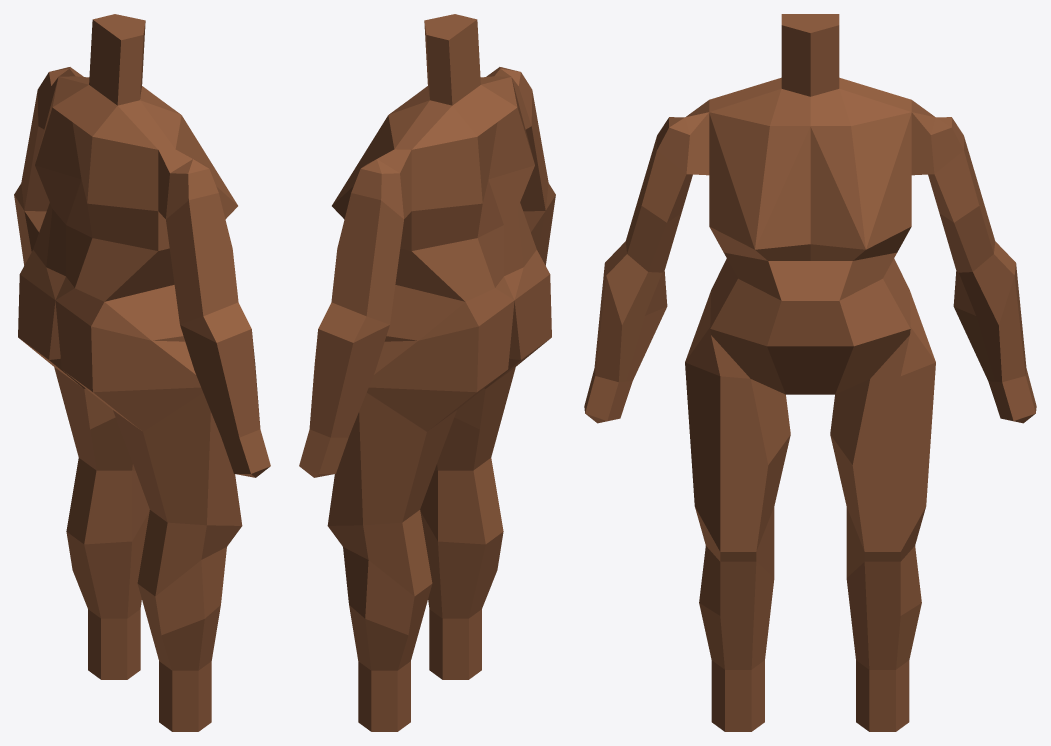
The model's file is fem1.glb.
3 views of the same model, side by side, from view 1: azimuth 30°, elevation 25°; view 2: azimuth 150°, elevation 25°; view 3: azimuth 270°, elevation 25° (orthographic).
Parts seen in each view (by area): view 1: Cylinder.003; view 2: Cylinder.003; view 3: Cylinder.003.
Boxes of the visible parts, bbox=[...] form: Cylinder.003: bbox=[14, 14, 270, 731]; Cylinder.003: bbox=[299, 14, 555, 731]; Cylinder.003: bbox=[584, 14, 1036, 731].
Size of the model in its own units: 5.05 by 21 by 12.53.
